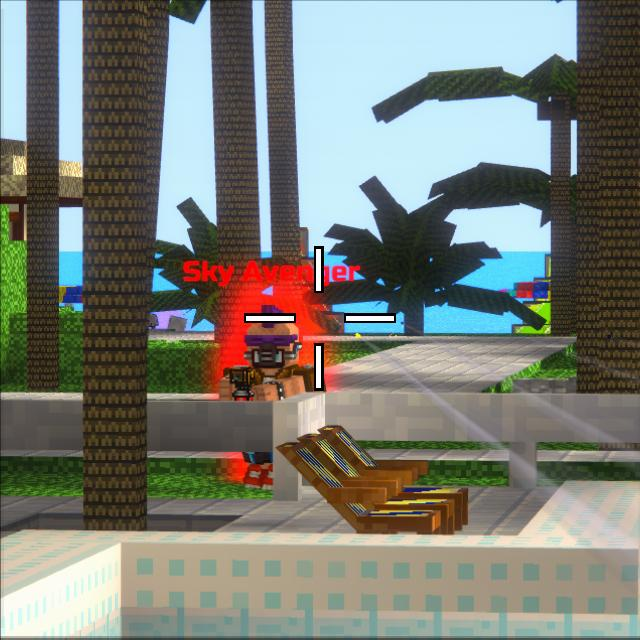Enemy: (215, 314, 312, 485)
